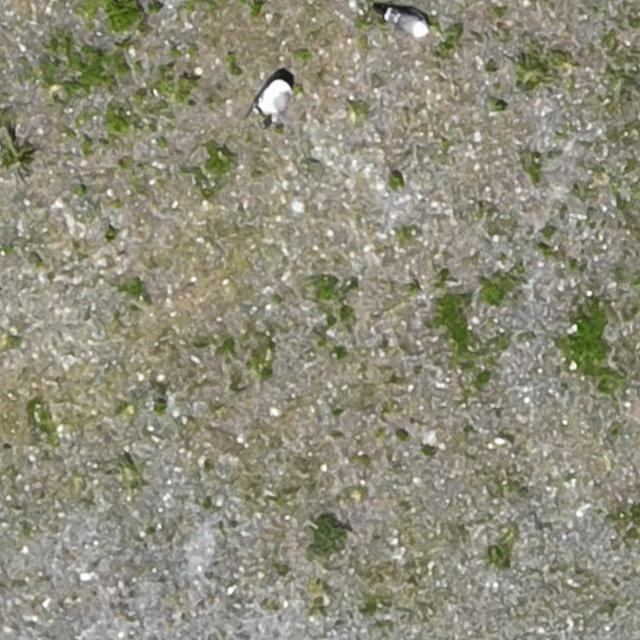umineko: (244, 79, 292, 116), (392, 13, 428, 38)
